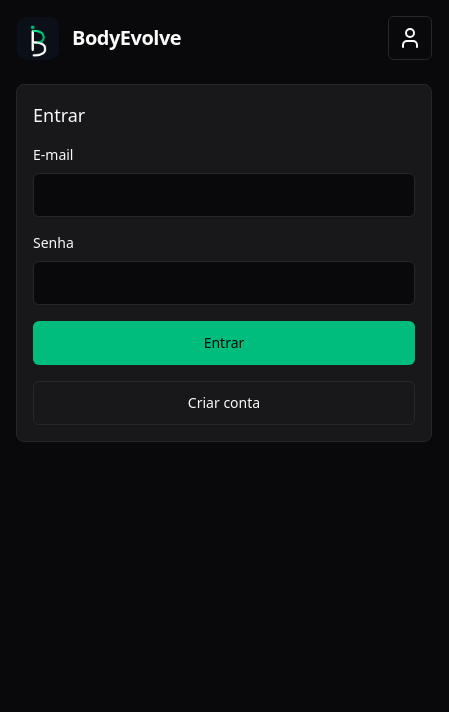
Test: entra com o que foi digitado, mostra a conta e esconde o resto sem sessão
Expected: the heading "Perfil" is not shown
Expected: the heading "Treino" is not shown
In the field labelled "E-mail": x=224, y=195 [33,173,415,217], type "ana@example.com"
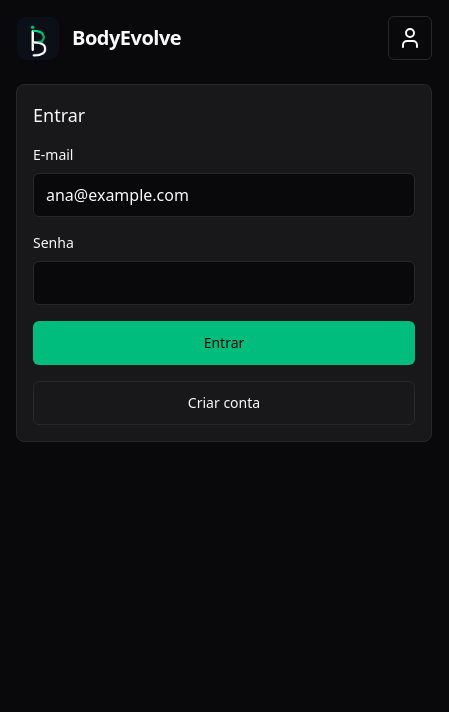
In the password field labelled "Senha": x=224, y=283 [33,261,415,305], type "senha-segura"
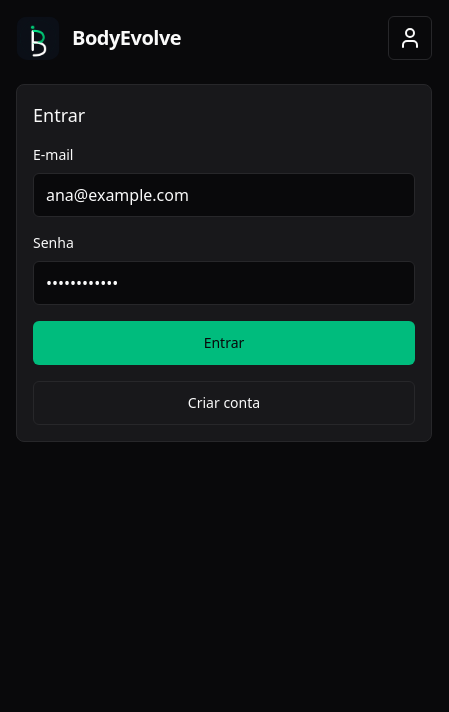
Submit the form "Entrar", box [33,101,415,425]
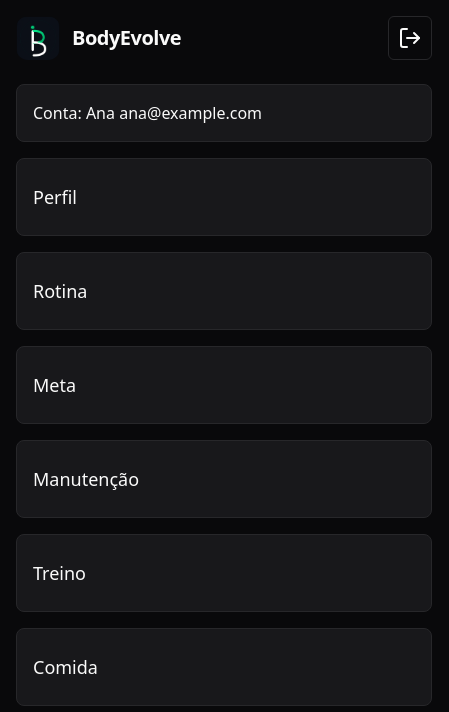
Result: the text "ana@example.com" is shown at [119,102,262,124]
Result: the heading "Perfil" is shown at [33,185,77,209]
Result: the heading "Treino" is shown at [33,561,86,585]
Click the button named "Sair": x=410, y=38 [388,16,432,60]
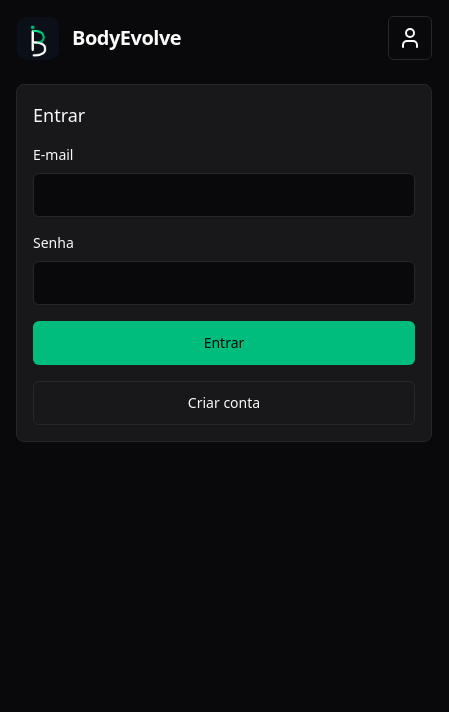
Result: the form "Entrar" is shown at [33,101,415,425]
Result: the text "ana@example.com" is gone
Result: the link "Perfil" is gone
